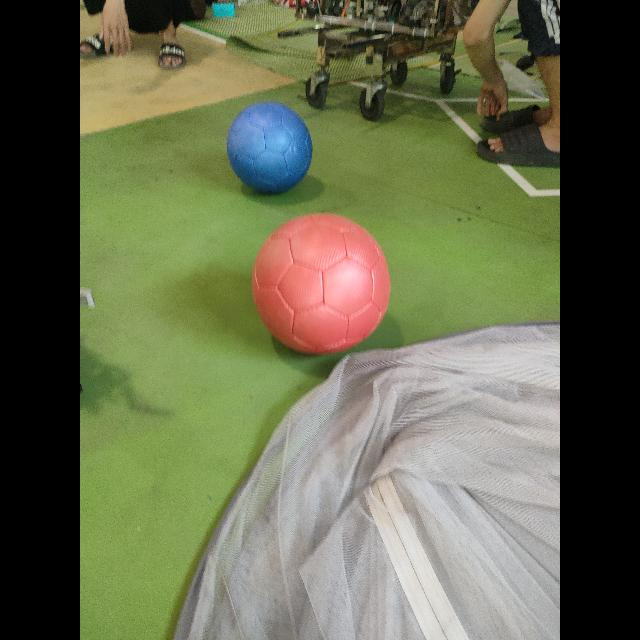B: (226, 103, 313, 198)
R: (251, 214, 392, 358)
